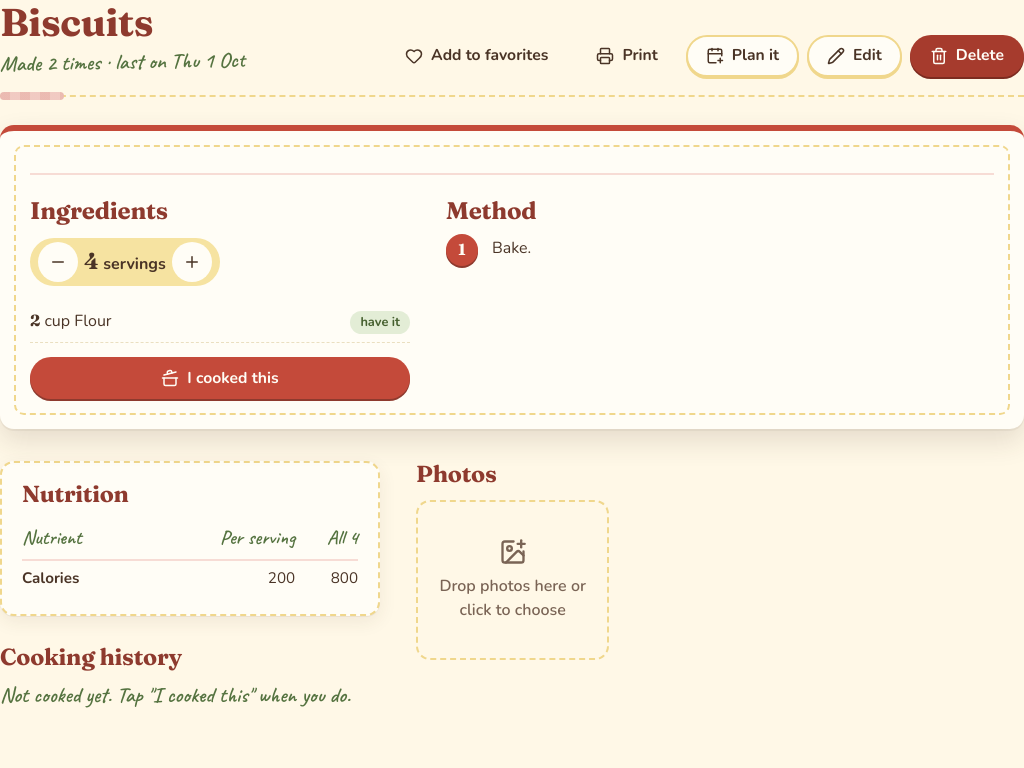
Test: plans the recipe at the servings picked on the page
This screenshot has width=1024, height=768.
Click the button named "More servings" at (192, 262), box [172,242,212,282]
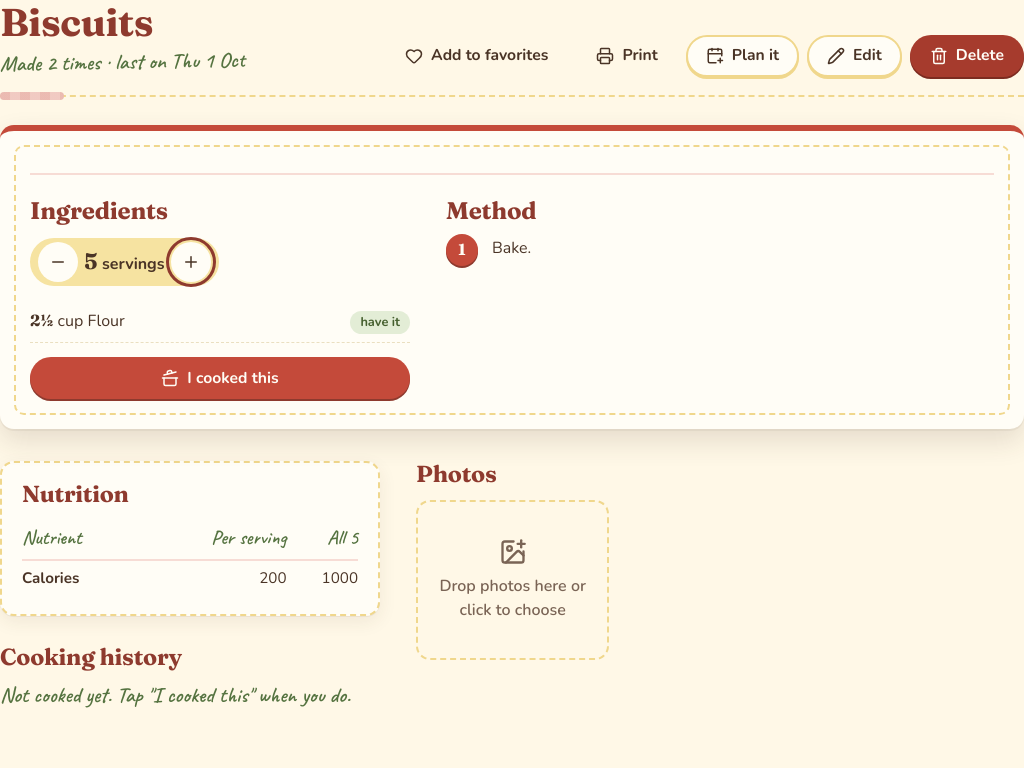
Click the button named "More servings" at (191, 262), box [171,242,211,282]
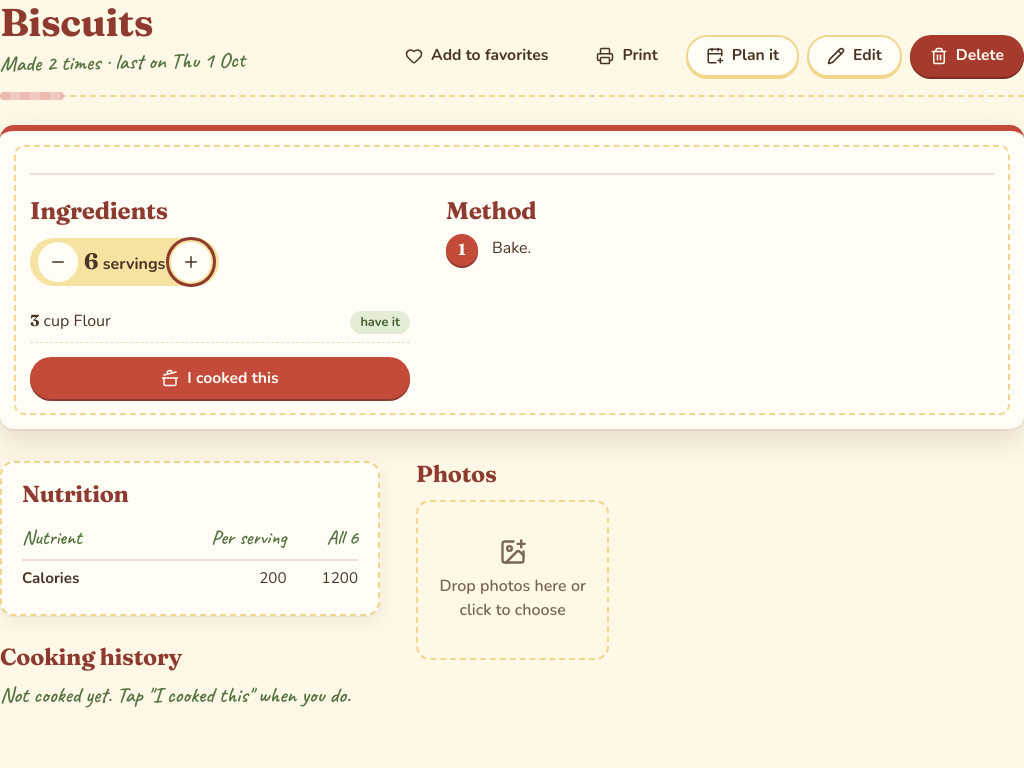
Click the button "Plan it" at (742, 56), box [686,34,799,76]
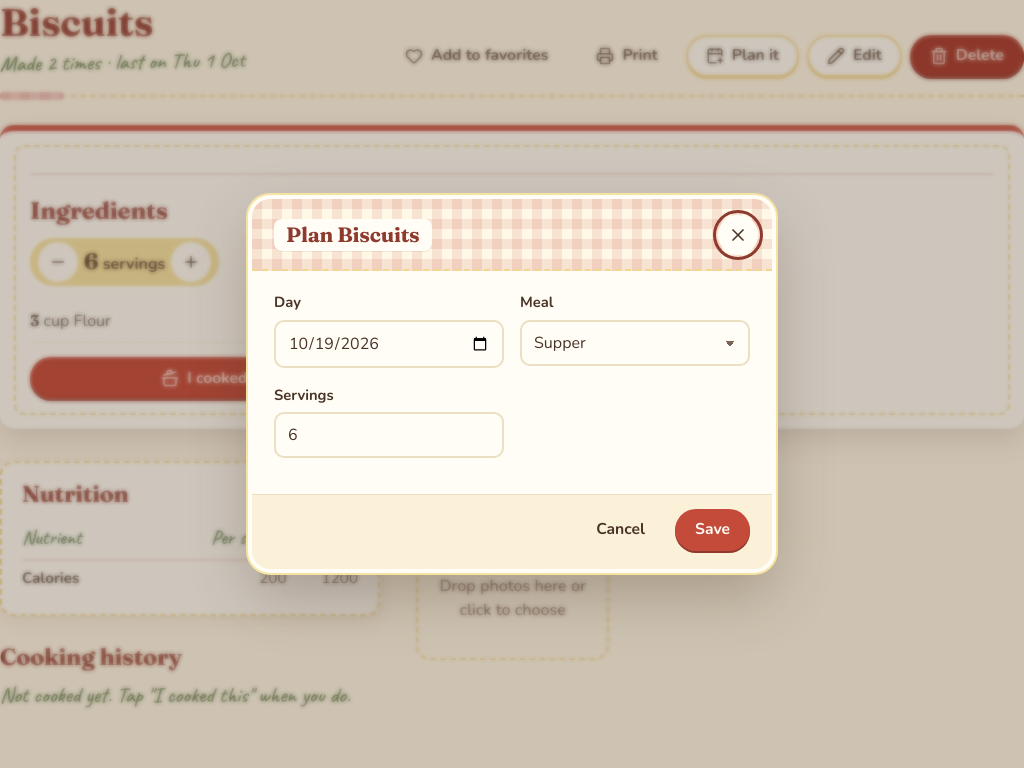
Expected: the number field labelled "Servings" holds "6", [274,412,504,458]
